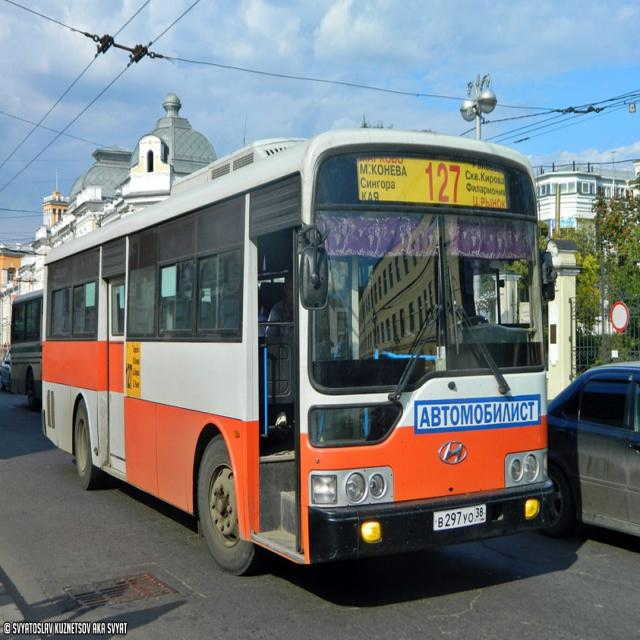number-of-bus: (421, 159, 465, 209)
